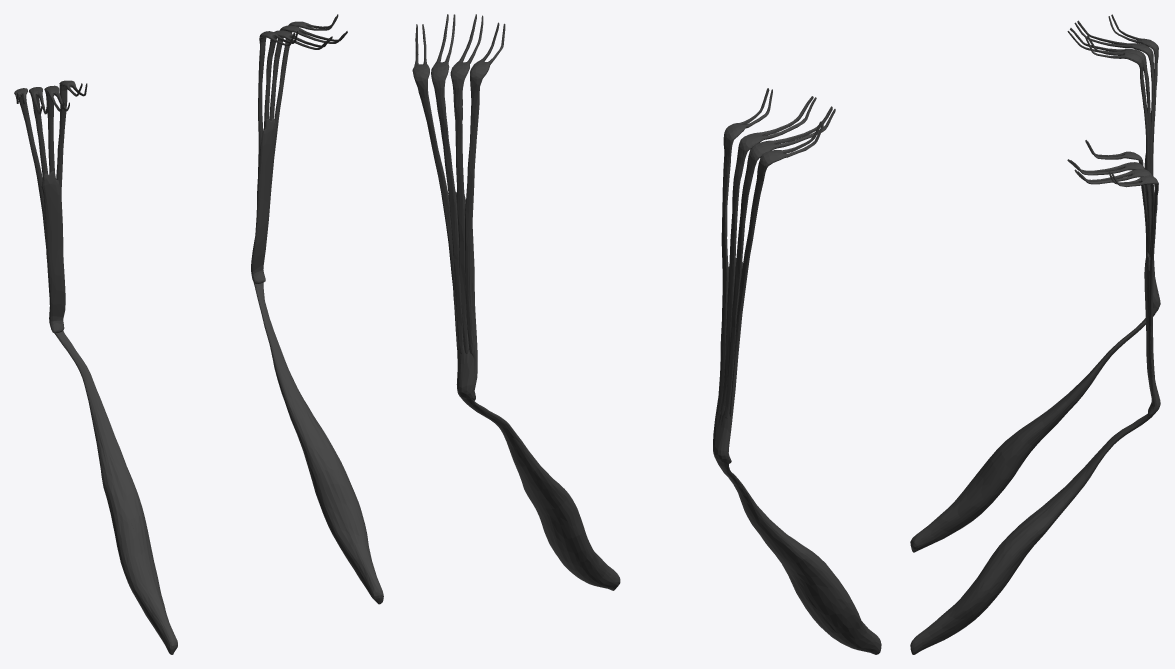
Rendered from m_SDF.glb.
The picture shows the model from 3 angles, left to right: view 1: azimuth 30°, elevation 25°; view 2: azimuth 150°, elevation 25°; view 3: azimuth 270°, elevation 25°; orthographic projection. The views are drawn at different scales.
Visible parts, largest first — view 1: m_SDF; view 2: m_SDF; view 3: m_SDF.
Part boxes in pixels (x1,y1,x2,y2): m_SDF: [14, 14, 383, 654]; m_SDF: [412, 14, 881, 654]; m_SDF: [910, 14, 1160, 654].
Bounding box in the file's own units: 0.0679 × 0.103 × 0.0453.
Materials: 1 (1 with a texture image).
